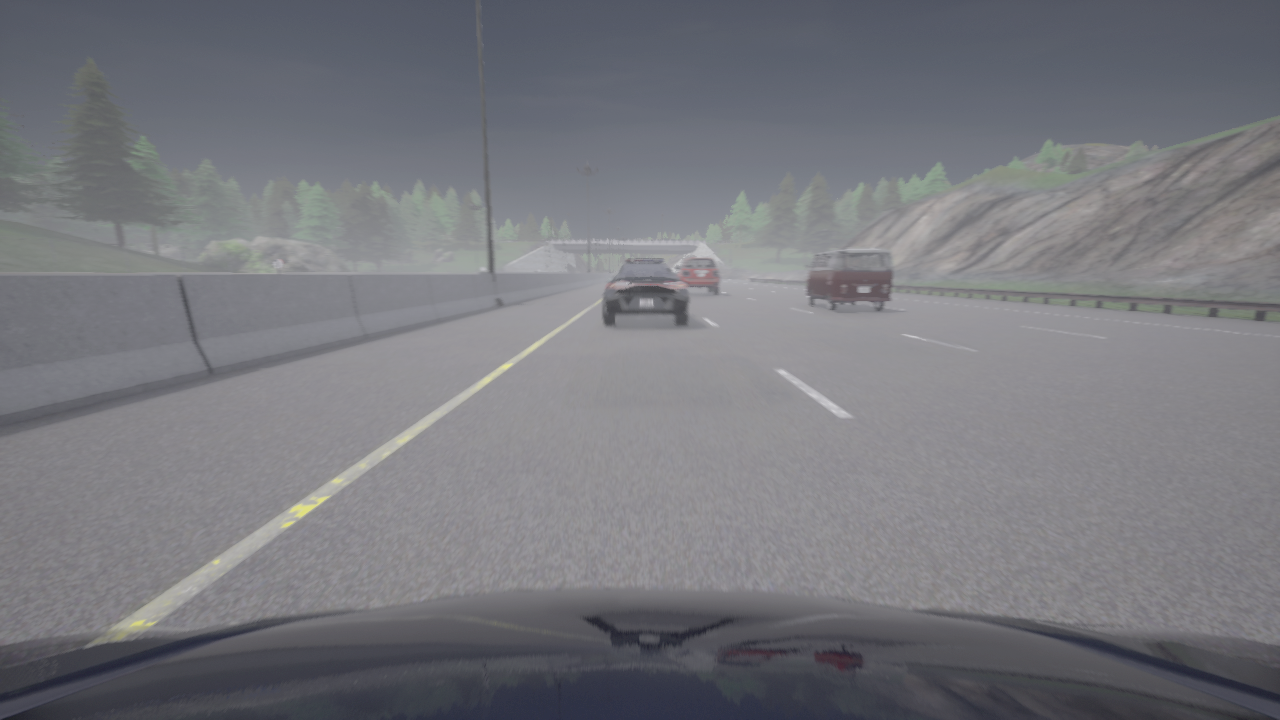cyclist: (0, 588, 1279, 719), (603, 259, 688, 325), (806, 248, 893, 311), (675, 257, 719, 295)
